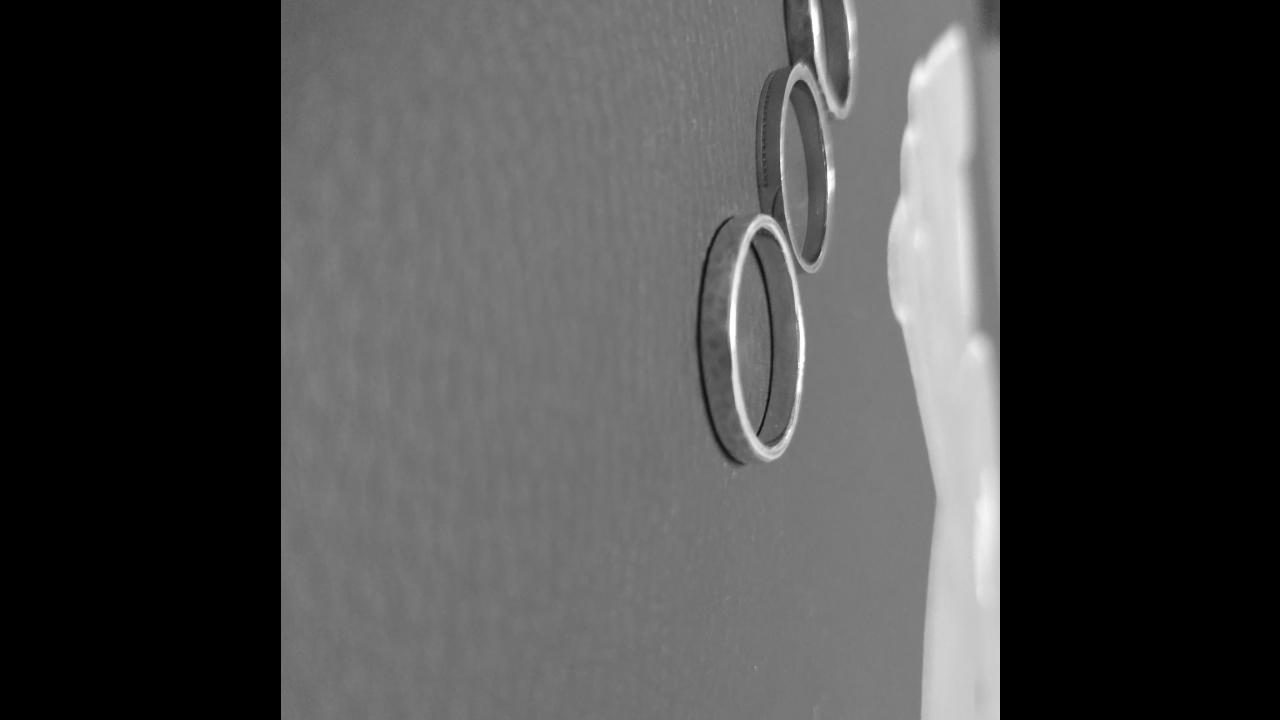ring: (697, 210, 805, 464), (754, 61, 834, 281), (782, 0, 856, 125)
